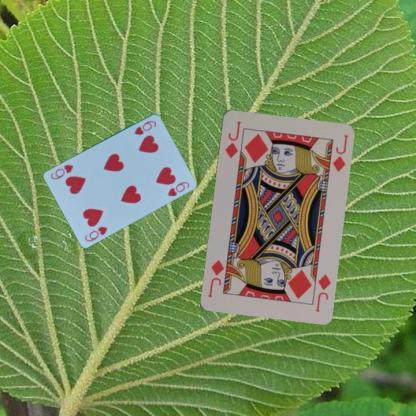6h: (82, 224, 109, 242), (132, 118, 158, 136)
Jd: (312, 271, 332, 313), (222, 118, 242, 159)
